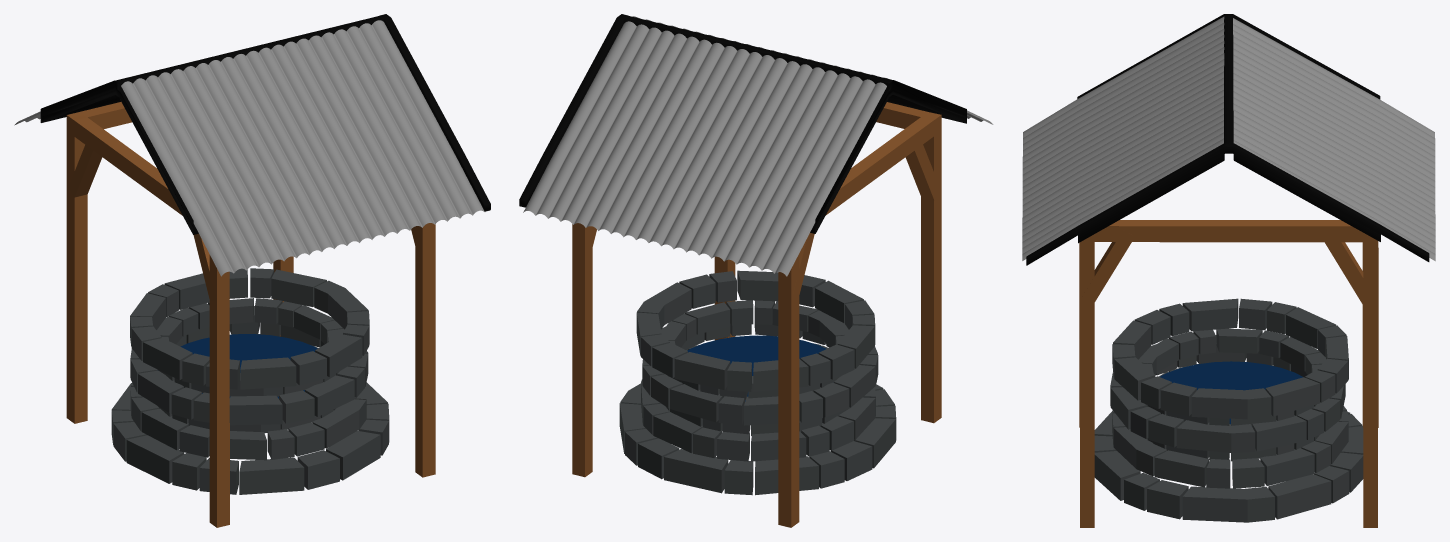
Rendered from WateringWell.fbx.
3 views of the same model, side by side, from view 1: azimuth 30°, elevation 25°; view 2: azimuth 150°, elevation 25°; view 3: azimuth 270°, elevation 25° (orthographic).
Visible parts, largest first — view 1: Cube.002; view 2: Cube.002; view 3: Cube.002.
Part boxes in pixels (left/top/right/bottom): Cube.002: left=14, top=14, right=490, bottom=527; Cube.002: left=519, top=14, right=993, bottom=527; Cube.002: left=1022, top=14, right=1435, bottom=527.
Bounding box in the file's own units: 29.27 × 40.79 × 38.6.
